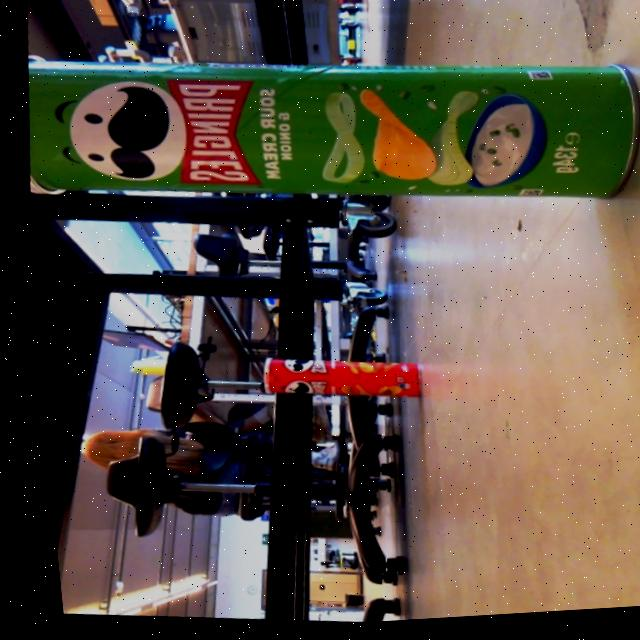greenpringles: (13, 16, 640, 259)
redpringles: (235, 339, 436, 432)
